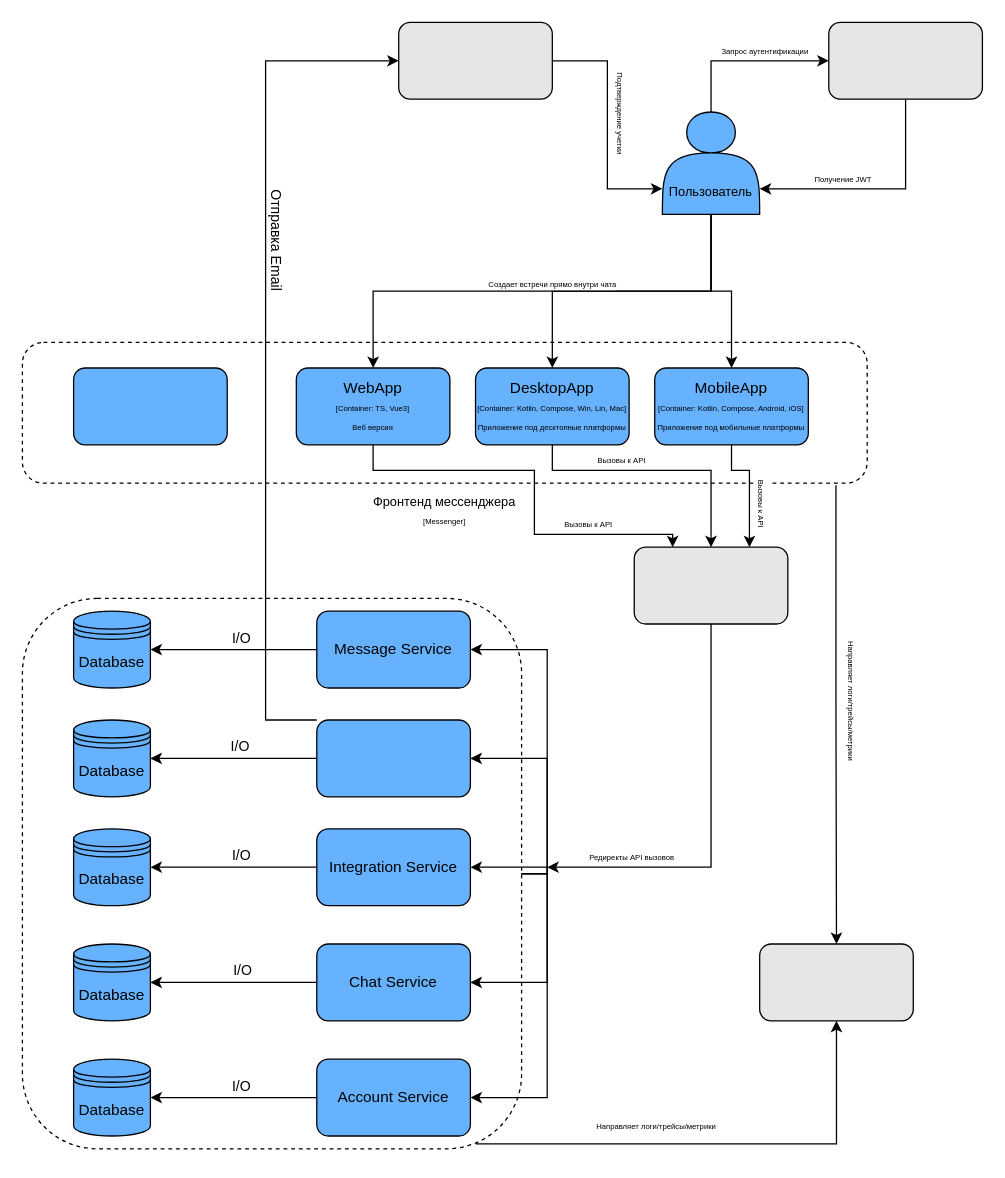
Some shapes in this 1005 by 1178 pixel diagram are drawn without their labels. Each missing label, with the centre of its shape:
"API Gateway [Software system] Маршрутизация" goes at point (710, 585).
"Email Service [Software system] Сервис отправки email-ов" goes at point (474, 60).
"Identity Service [Software system] Аутентификация, форма входа" goes at point (905, 60).
"Notification Service" goes at point (393, 758).
"Web Server [Container: Nginx] статичный контент" goes at point (149, 406).
"Мониторинг [Software system] Сбор метрик/логов/трейсов. Алертинг" goes at point (835, 982).
